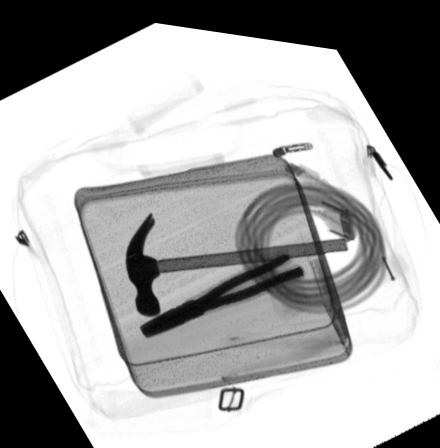Hammer: (124, 207, 349, 313)
Pliers: (138, 245, 304, 333)
